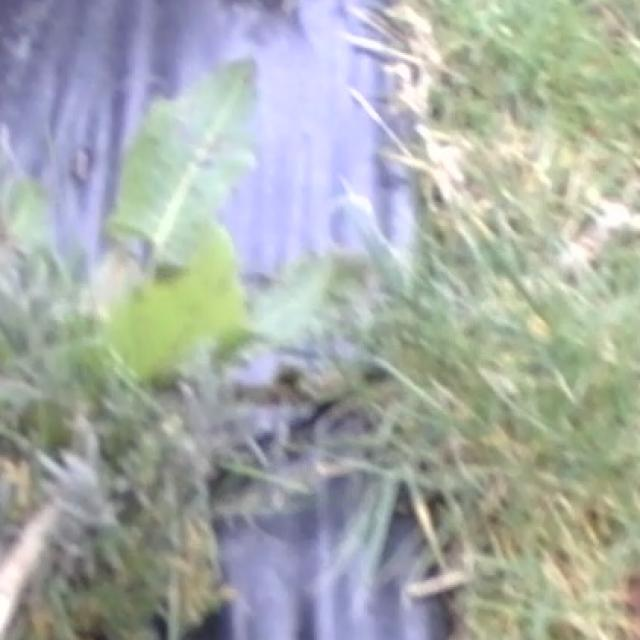organic waste: (0, 17, 405, 424)
